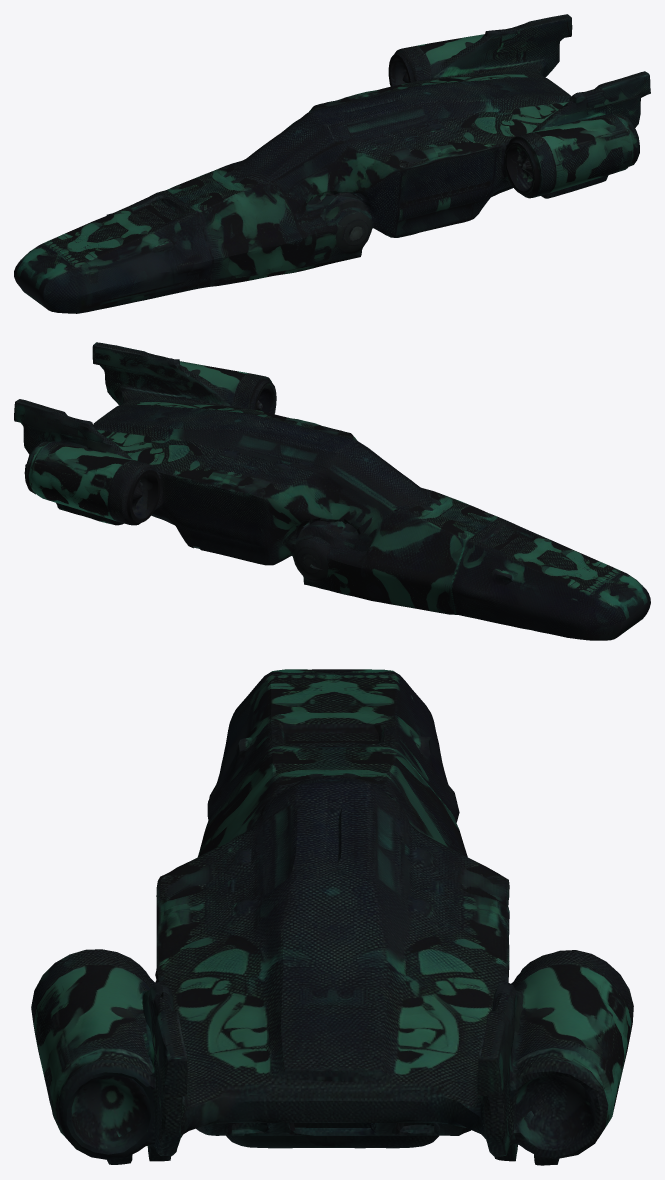
The model's file is ship10.glb.
The picture shows the model from 3 angles, top to bottom: view 1: azimuth 30°, elevation 25°; view 2: azimuth 150°, elevation 25°; view 3: azimuth 270°, elevation 25°; orthographic projection. The views are drawn at different scales.
Parts seen in each view (by area): view 1: Mesh0; view 2: Mesh0; view 3: Mesh0.
Boxes of the visible parts, x1,y1,x2,y2 form: Mesh0: [14, 14, 650, 313]; Mesh0: [14, 342, 650, 640]; Mesh0: [31, 669, 633, 1165].
Bounding box in the file's own units: 1.91 × 0.3869 × 0.858.
1 material, 1 textured.
